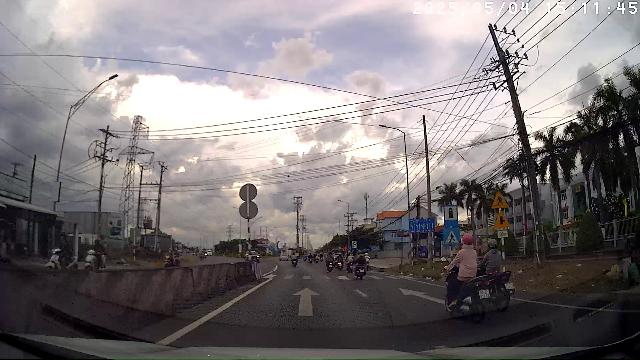423a-duong-nguoi-di-bo-sang-ngang-1: (443, 228, 460, 245)
